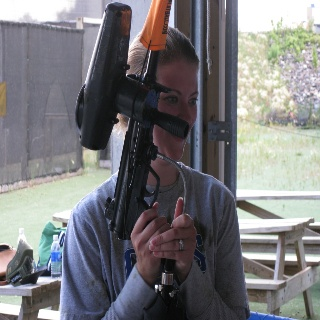rifle: (72, 1, 199, 300)
